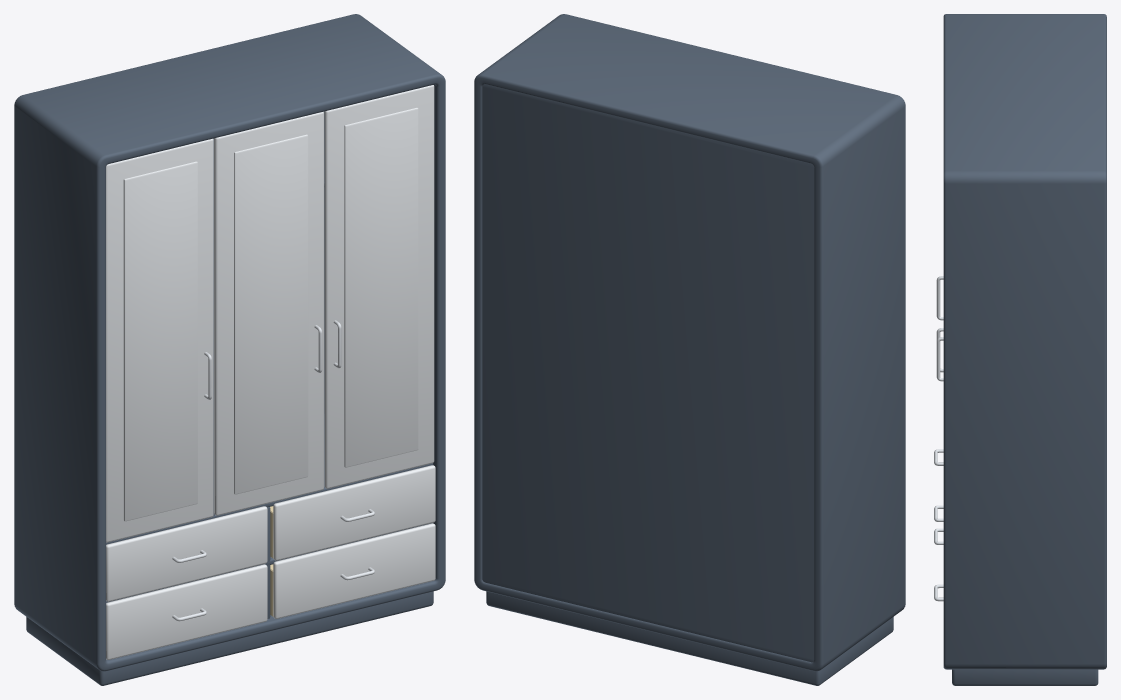
Rendered from guarda_roupa_3portas_gavetas_cinza.glb.
The picture shows the model from 3 angles, left to right: view 1: azimuth 30°, elevation 25°; view 2: azimuth 150°, elevation 25°; view 3: azimuth 270°, elevation 25°; orthographic projection. The views are drawn at different scales.
Parts seen in each view (by area): view 1: guarda_roupa_3portas_gavetas_cinza, porta_3, porta_2, porta_1, gaveta_2, gaveta_4, gaveta_1, gaveta_3; view 2: guarda_roupa_3portas_gavetas_cinza; view 3: guarda_roupa_3portas_gavetas_cinza.
Boxes of the visible parts, bbox=[...] form: guarda_roupa_3portas_gavetas_cinza: bbox=[14, 14, 445, 685]; porta_3: bbox=[324, 85, 434, 488]; porta_2: bbox=[214, 111, 323, 515]; porta_1: bbox=[106, 138, 213, 542]; gaveta_2: bbox=[270, 523, 435, 618]; gaveta_4: bbox=[270, 465, 435, 560]; gaveta_1: bbox=[106, 564, 267, 659]; gaveta_3: bbox=[106, 506, 267, 601]; guarda_roupa_3portas_gavetas_cinza: bbox=[474, 14, 905, 685]; guarda_roupa_3portas_gavetas_cinza: bbox=[943, 14, 1106, 685].
Size of the model in its own units: 1.38 by 2.02 by 0.6135.
1 material, 1 textured.
